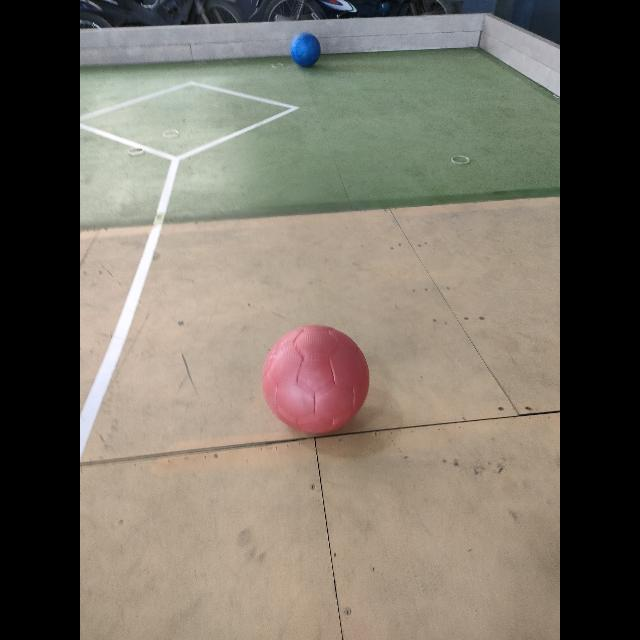B: (290, 32, 321, 68)
R: (262, 325, 369, 432)
